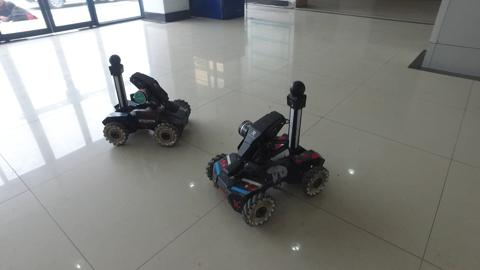chariot: (200, 78, 333, 229), (99, 52, 198, 151)
